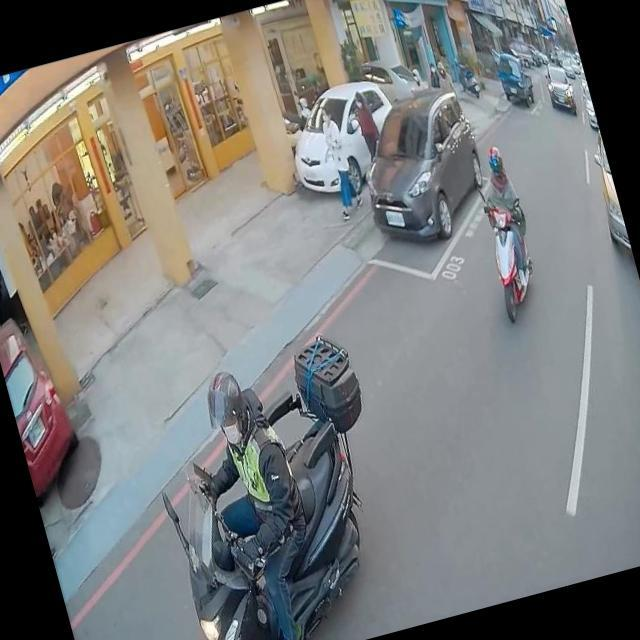person: (161, 350, 344, 640), (465, 144, 544, 302), (306, 96, 366, 218), (346, 90, 386, 166), (434, 58, 456, 100), (402, 59, 428, 94), (424, 60, 444, 93)
